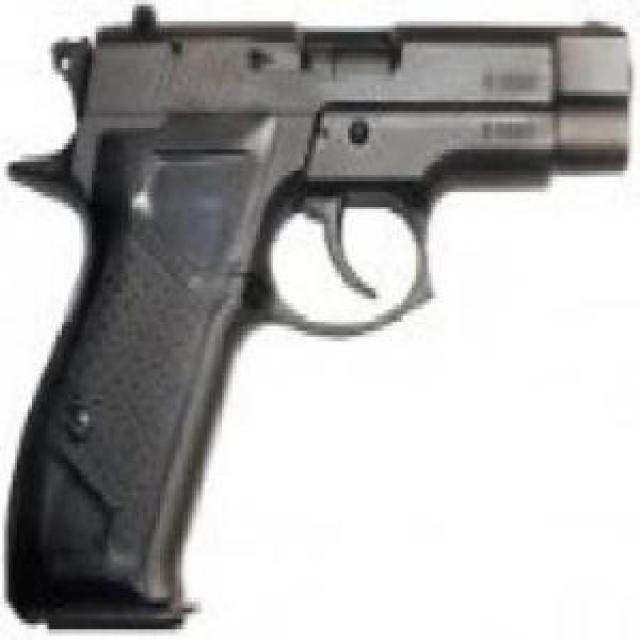pistol: (9, 15, 636, 628)
